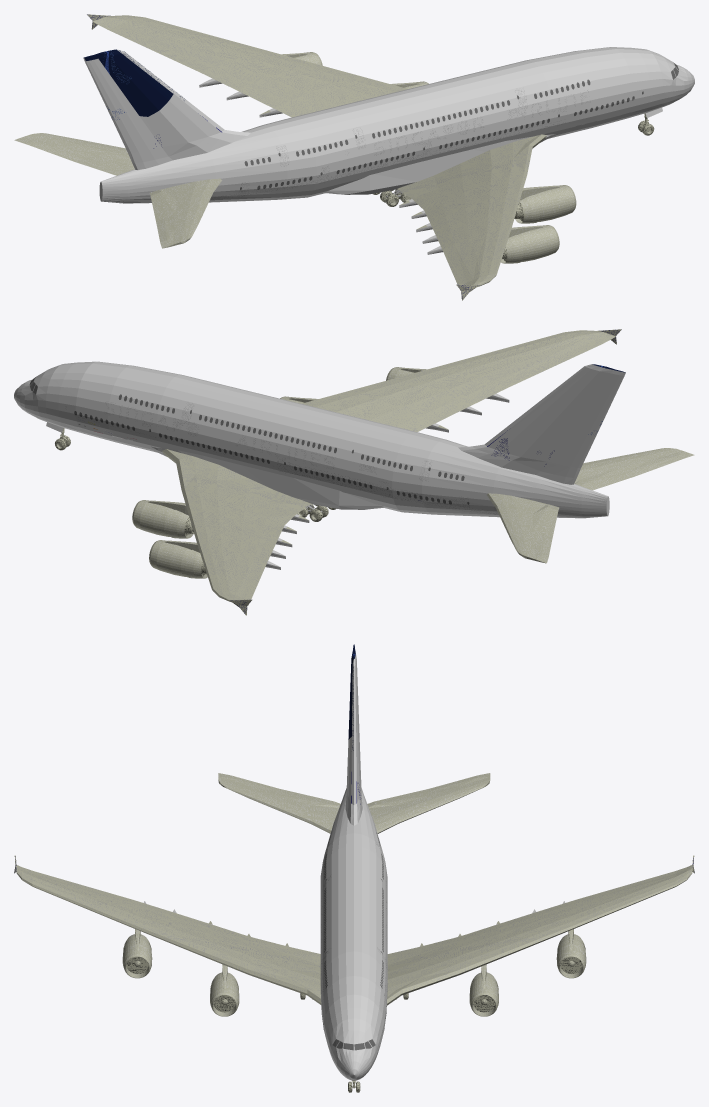
3 renders of one model, top to bottom at view 1: azimuth 30°, elevation 25°; view 2: azimuth 150°, elevation 25°; view 3: azimuth 270°, elevation 25°, orthographic. The views are drawn at different scales.
Visible parts, largest first — view 1: mesh138_mesh138-geometry, mesh40_mesh40-geometry, mesh112_mesh112-geometry, mesh143_mesh143-geometry, mesh140_mesh140-geometry, mesh39_mesh39-geometry, mesh122_mesh122-geometry, mesh142_mesh142-geometry, mesh134.001_mesh134-geometry, mesh134.002_mesh134-geometry, mesh141_mesh141-geometry, mesh139_mesh139-geometry (+2 smaller); view 2: mesh138_mesh138-geometry, mesh112_mesh112-geometry, mesh40_mesh40-geometry, mesh143_mesh143-geometry, mesh142_mesh142-geometry, mesh122_mesh122-geometry, mesh39_mesh39-geometry, mesh140_mesh140-geometry, mesh128.001_mesh128-geometry, mesh128.002_mesh128-geometry, mesh139_mesh139-geometry, mesh126.002_mesh126-geometry (+2 smaller); view 3: mesh138_mesh138-geometry, mesh40_mesh40-geometry, mesh112_mesh112-geometry, mesh142_mesh142-geometry, mesh140_mesh140-geometry, mesh39_mesh39-geometry, mesh122_mesh122-geometry, mesh134.001_mesh134-geometry, mesh128.001_mesh128-geometry, mesh134.002_mesh134-geometry, mesh128.002_mesh128-geometry.
Boxes of the visible parts, x1,y1,x2,y2 form: mesh138_mesh138-geometry: (83, 47, 694, 203); mesh40_mesh40-geometry: (93, 15, 407, 111); mesh112_mesh112-geometry: (434, 134, 546, 290); mesh143_mesh143-geometry: (325, 134, 556, 194); mesh140_mesh140-geometry: (149, 178, 221, 248); mesh39_mesh39-geometry: (108, 26, 312, 117); mesh122_mesh122-geometry: (397, 175, 466, 284); mesh142_mesh142-geometry: (14, 133, 134, 171); mesh134.001_mesh134-geometry: (504, 225, 559, 261); mesh134.002_mesh134-geometry: (520, 185, 576, 221); mesh141_mesh141-geometry: (26, 141, 126, 175); mesh139_mesh139-geometry: (150, 192, 166, 242); mesh138_mesh138-geometry: (14, 361, 625, 518); mesh112_mesh112-geometry: (301, 330, 615, 426); mesh40_mesh40-geometry: (162, 449, 274, 605); mesh143_mesh143-geometry: (150, 446, 383, 509); mesh142_mesh142-geometry: (487, 493, 559, 563); mesh122_mesh122-geometry: (396, 341, 600, 431); mesh39_mesh39-geometry: (242, 490, 311, 599); mesh140_mesh140-geometry: (574, 448, 694, 486); mesh128.001_mesh128-geometry: (149, 540, 204, 577); mesh128.002_mesh128-geometry: (132, 500, 187, 536); mesh139_mesh139-geometry: (583, 456, 682, 490); mesh126.002_mesh126-geometry: (168, 510, 193, 538); mesh138_mesh138-geometry: (320, 644, 387, 1080); mesh40_mesh40-geometry: (387, 865, 692, 1005); mesh112_mesh112-geometry: (16, 865, 321, 1004); mesh142_mesh142-geometry: (367, 773, 490, 833); mesh140_mesh140-geometry: (218, 773, 340, 833); mesh39_mesh39-geometry: (387, 871, 676, 964); mesh122_mesh122-geometry: (32, 871, 320, 964); mesh134.001_mesh134-geometry: (122, 938, 152, 978); mesh128.001_mesh128-geometry: (556, 938, 586, 978); mesh134.002_mesh134-geometry: (210, 976, 239, 1016); mesh128.002_mesh128-geometry: (469, 976, 498, 1016).
Bounding box in the file's own units: 0.6721 × 0.2242 × 0.7057.
